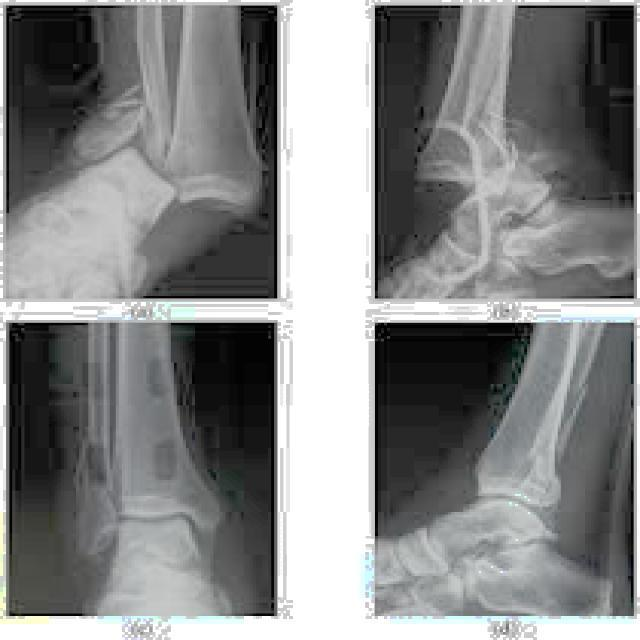Fracture Dislocation: (552, 376, 592, 466)
